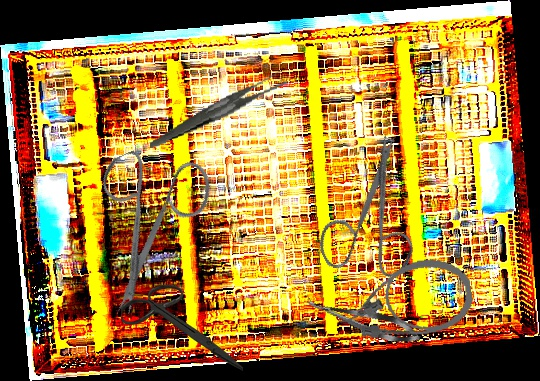Cannula: (331, 252, 478, 349)
Dressing Forceps: (141, 70, 294, 148)
Iris Scissors: (59, 126, 247, 319), (286, 129, 450, 300), (120, 283, 245, 372)
Micro Scissor: (303, 290, 424, 350)
